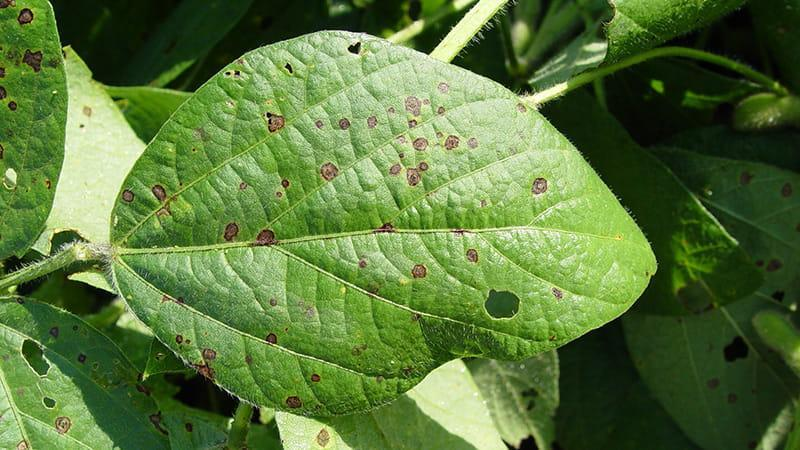black-spot: (300, 74, 469, 229)
